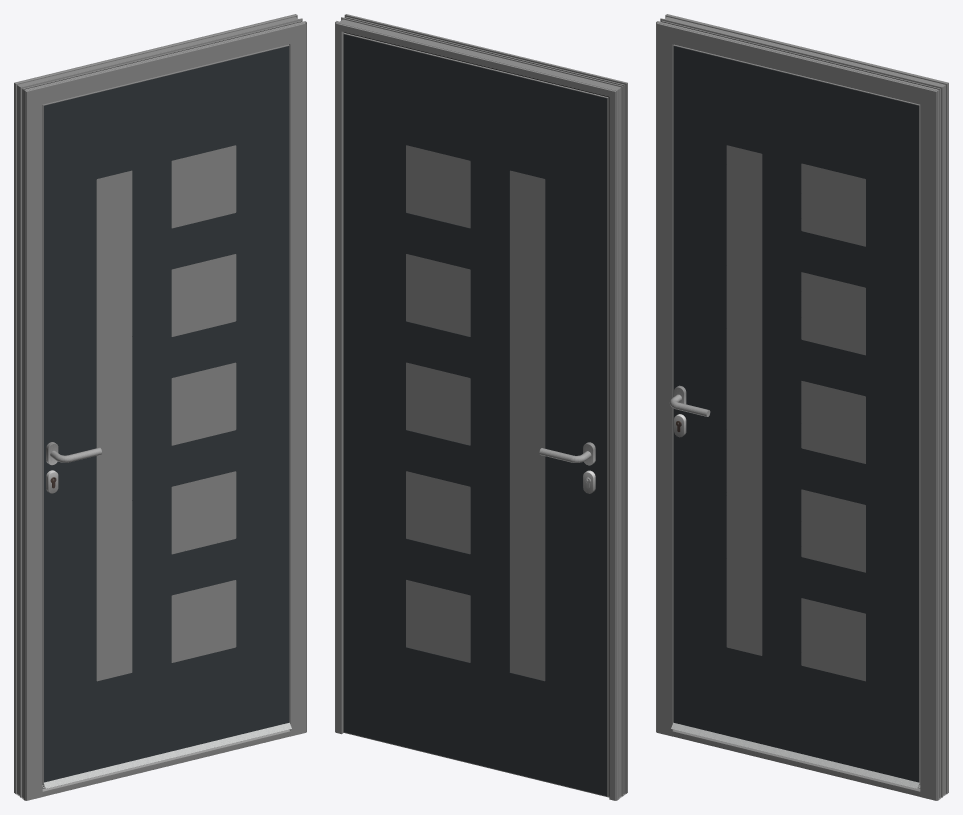
The picture shows the model from 3 angles, left to right: view 1: azimuth 30°, elevation 25°; view 2: azimuth 150°, elevation 25°; view 3: azimuth 330°, elevation 25°; orthographic projection.
Parts seen in each view (by area): view 1: bloco_17, Box001, aroFixo, aroMovel, rodapé, escovas, puxador001; view 2: bloco_17, Box002, aroFixo, aroMovel, puxador; view 3: bloco_17, aroFixo, Box001, aroMovel, rodapé, escovas, puxador001.
Part boxes in pixels (bbox=[...]): bloco_17: bbox=[44, 46, 289, 782]; Box001: bbox=[96, 145, 236, 681]; aroFixo: bbox=[14, 14, 306, 800]; aroMovel: bbox=[42, 44, 289, 784]; rodapé: bbox=[42, 729, 290, 796]; escovas: bbox=[42, 722, 291, 788]; puxador001: bbox=[46, 442, 101, 493]; bloco_17: bbox=[343, 34, 607, 796]; Box002: bbox=[406, 145, 545, 680]; aroFixo: bbox=[335, 14, 627, 800]; aroMovel: bbox=[343, 32, 609, 796]; puxador: bbox=[539, 442, 595, 493]; bloco_17: bbox=[673, 46, 918, 782]; aroFixo: bbox=[656, 14, 948, 800]; Box001: bbox=[726, 145, 865, 681]; aroMovel: bbox=[673, 44, 920, 784]; rodapé: bbox=[672, 729, 920, 796]; escovas: bbox=[671, 722, 920, 788]; puxador001: bbox=[669, 385, 710, 437].
Bounding box in the file's own units: 900 × 2165 × 209.
9 materials, 4 textured.
